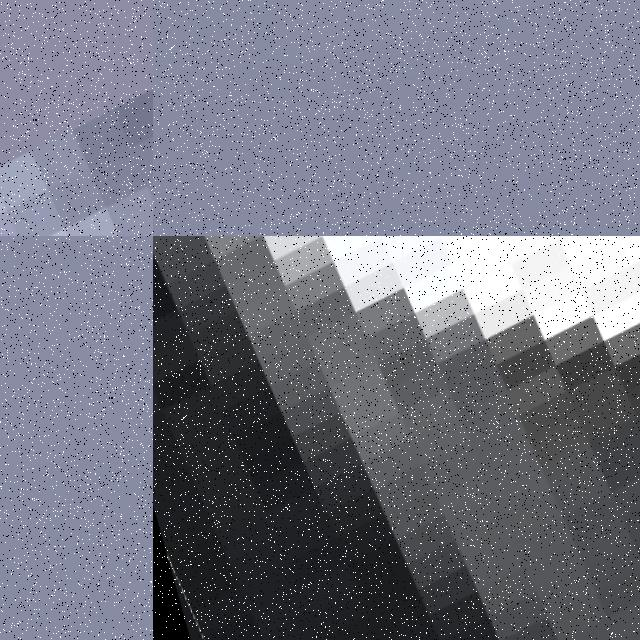0: (0, 0, 153, 236)
drone: (153, 236, 640, 640)
